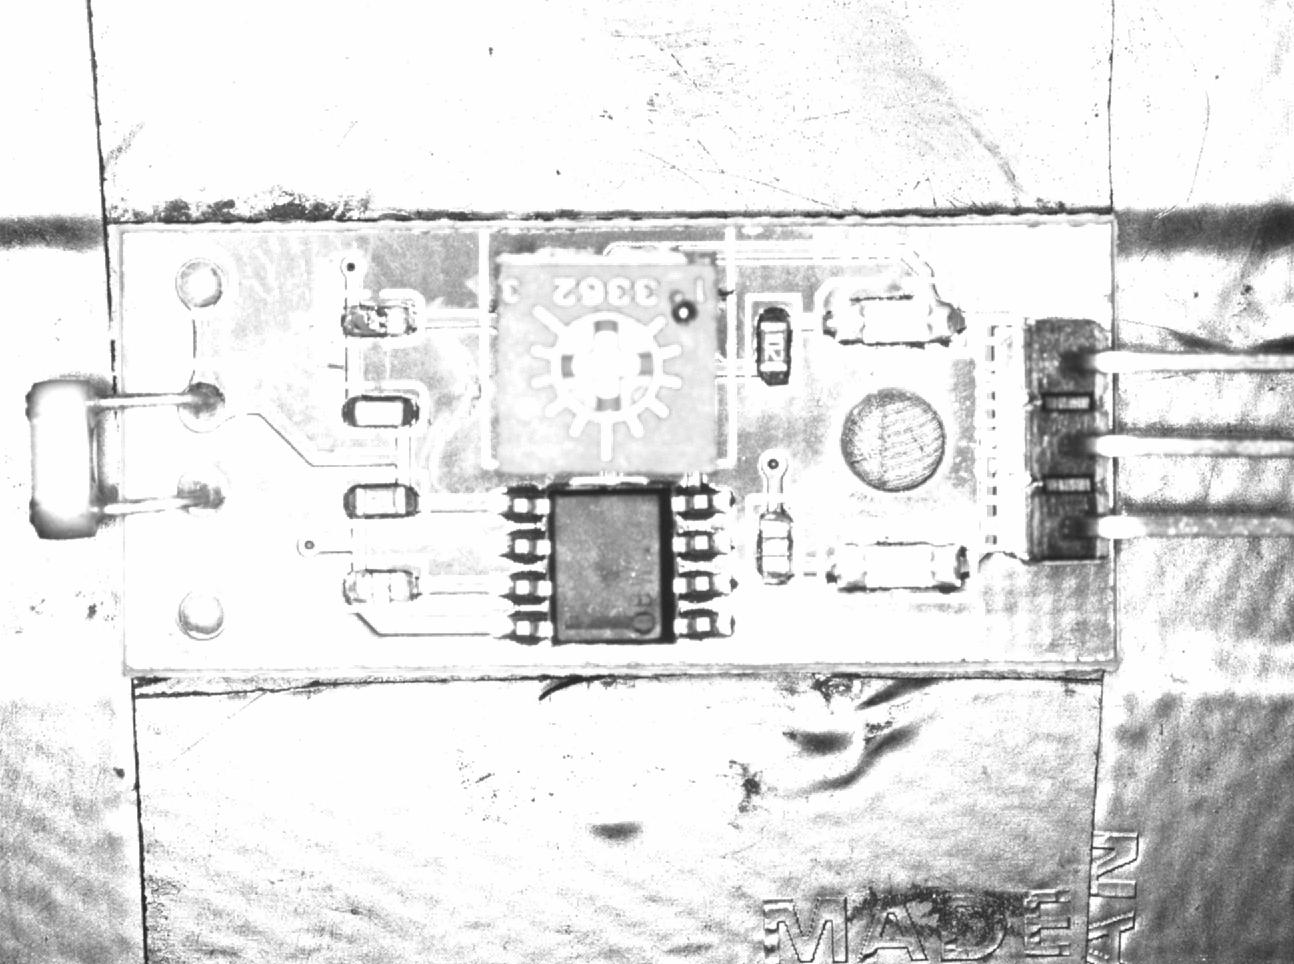miss: (746, 490, 798, 594), (333, 294, 424, 344), (333, 564, 428, 611)
ok: (331, 381, 430, 436), (331, 471, 430, 526), (750, 295, 801, 395)
